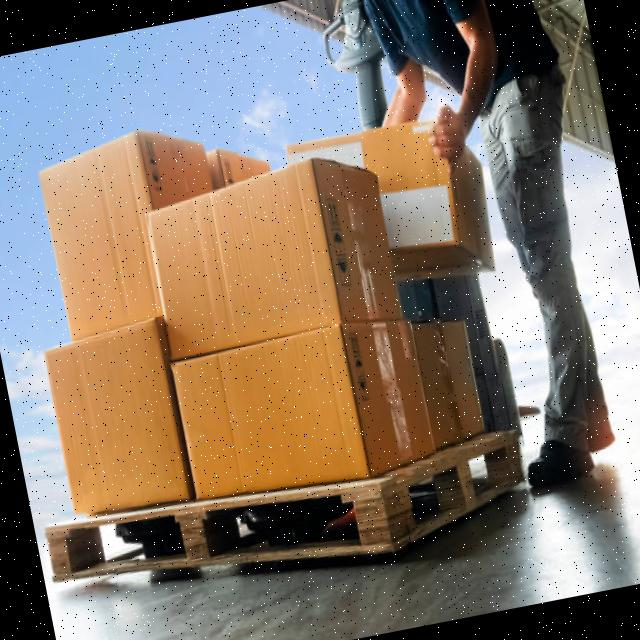Wooden-Pallets: (39, 425, 524, 593)
